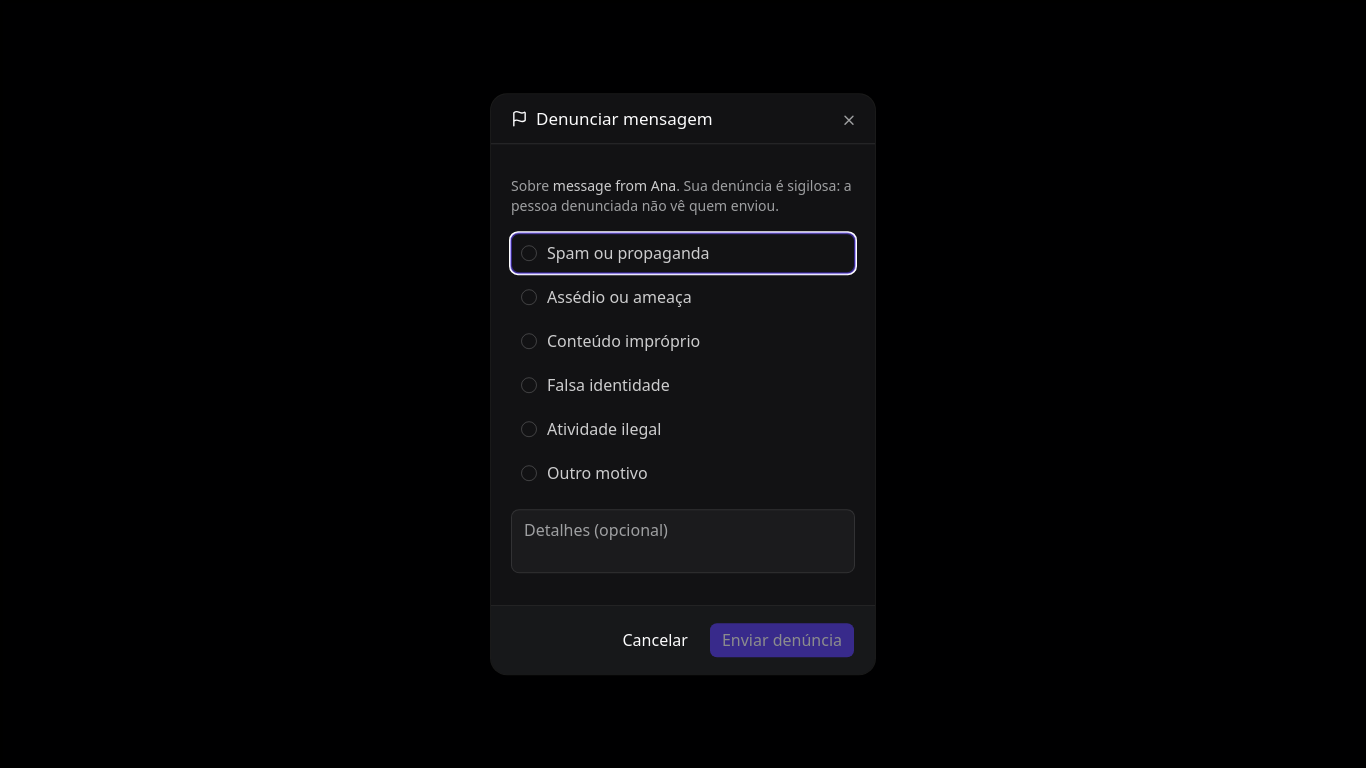
Scenario: ReportDialog › error shows an alert and keeps the form for another attempt
Click the radio button labelled "Assédio ou ameaça" at (683, 297), box 511,277 -> 855,317
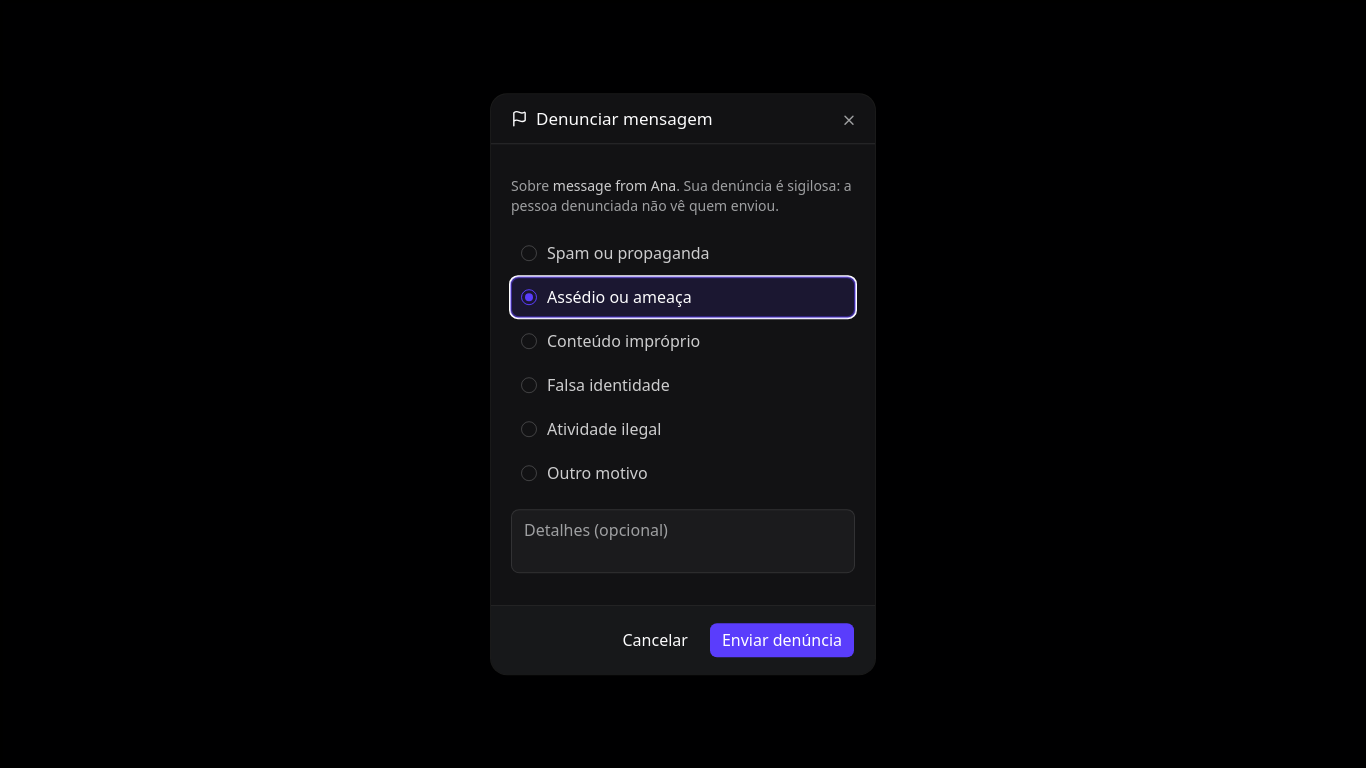
Click the button "Enviar denúncia" at (782, 640), box 709,622 -> 855,658
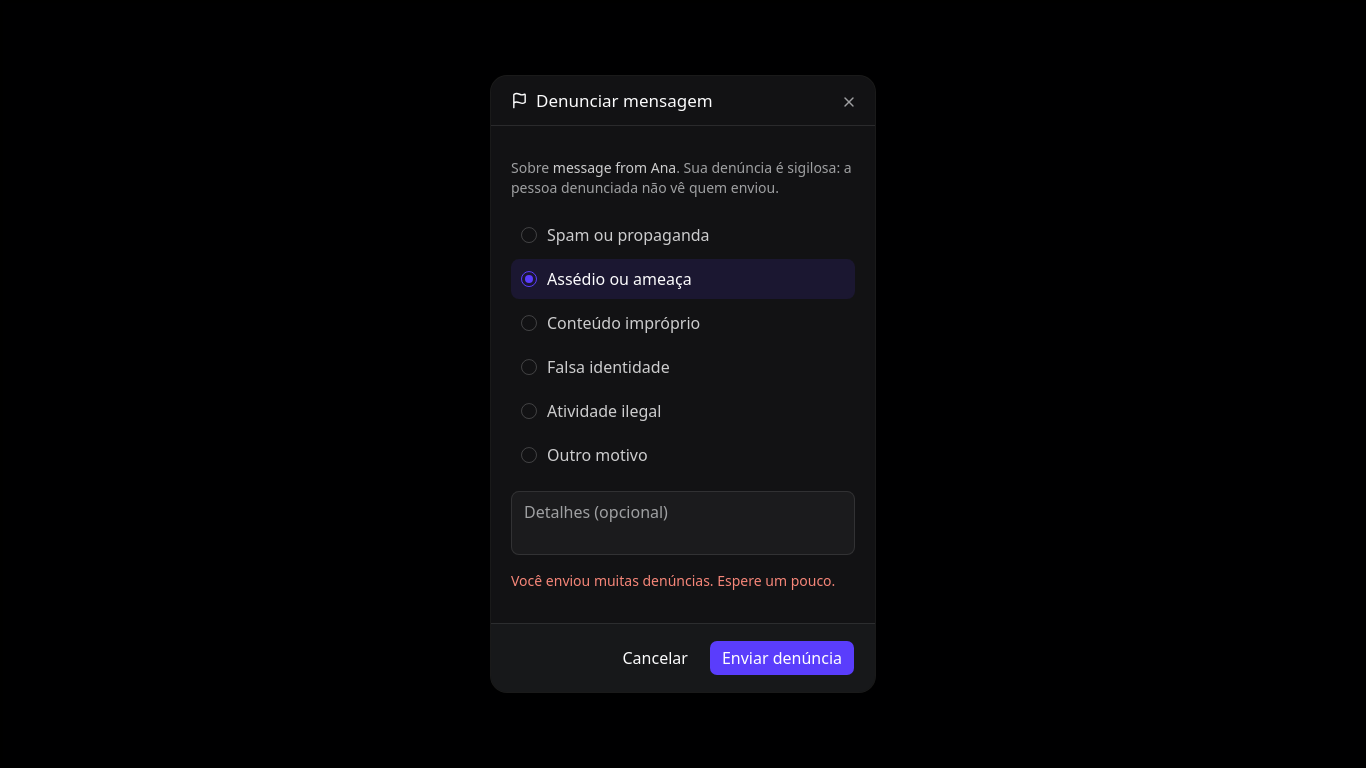
expect the message shows "muitas denúncias": met, box 511,571 -> 835,590
Click the button "Enviar denúncia" at (782, 658), box 709,640 -> 855,676
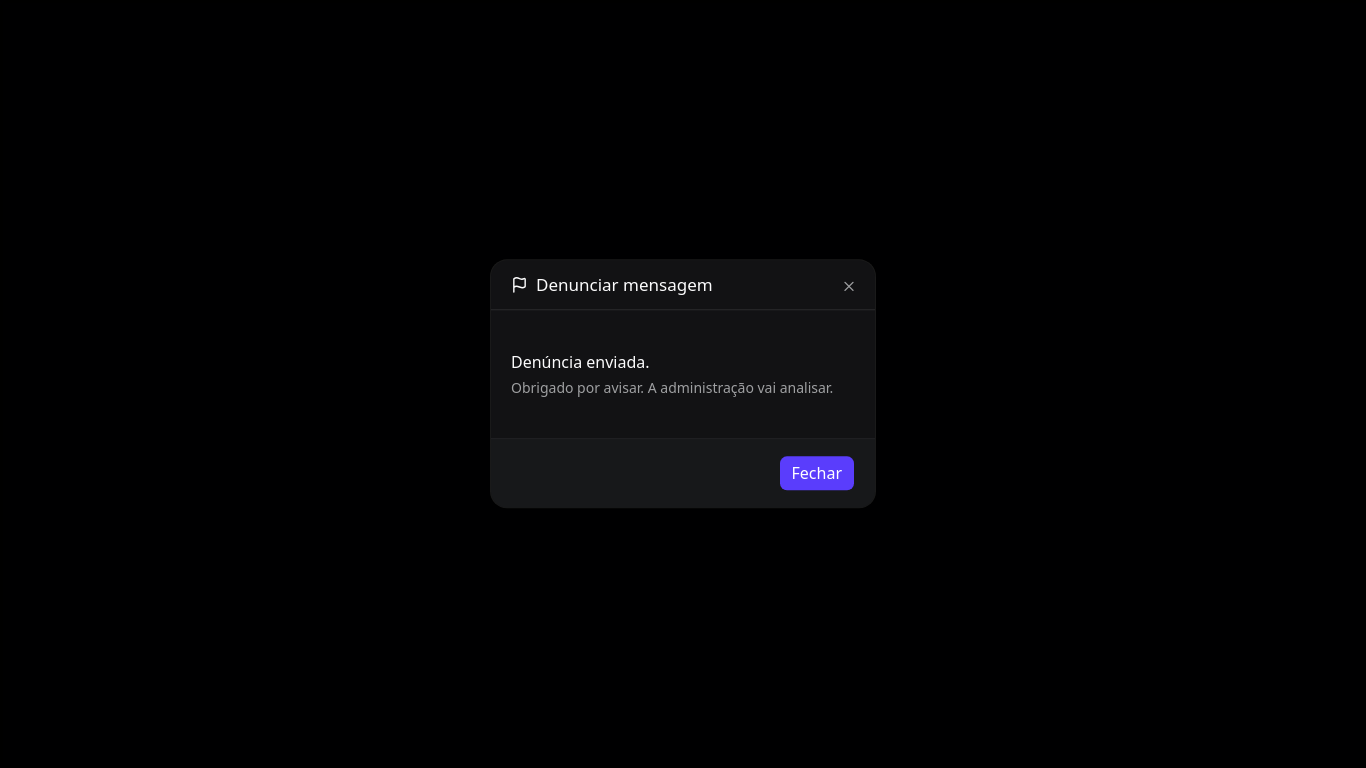
expect the text "Denúncia enviada." is shown: met, box 511,351 -> 650,373
